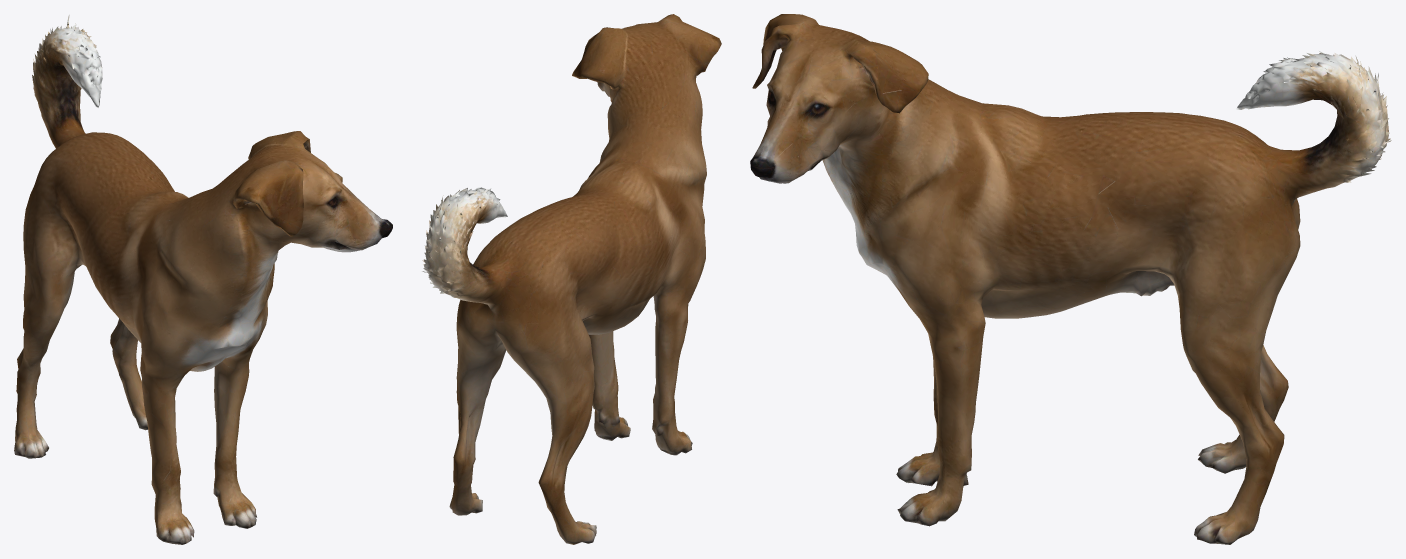
The model's file is cao-1.glb.
3 renders of one model, left to right at view 1: azimuth 30°, elevation 25°; view 2: azimuth 150°, elevation 25°; view 3: azimuth 270°, elevation 25°, orthographic. The views are drawn at different scales.
Visible parts, largest first — view 1: cao; view 2: cao; view 3: cao.
Part boxes in pixels (x1,y1,x2,y2): cao: [14, 15, 392, 544]; cao: [422, 14, 721, 544]; cao: [750, 14, 1391, 544].
Size of the model in its own units: 0.7787 by 1.59 by 1.88.
Materials: 1 (1 with a texture image).
